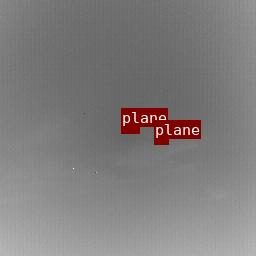plane: (121, 127, 139, 133), (154, 139, 168, 144)
